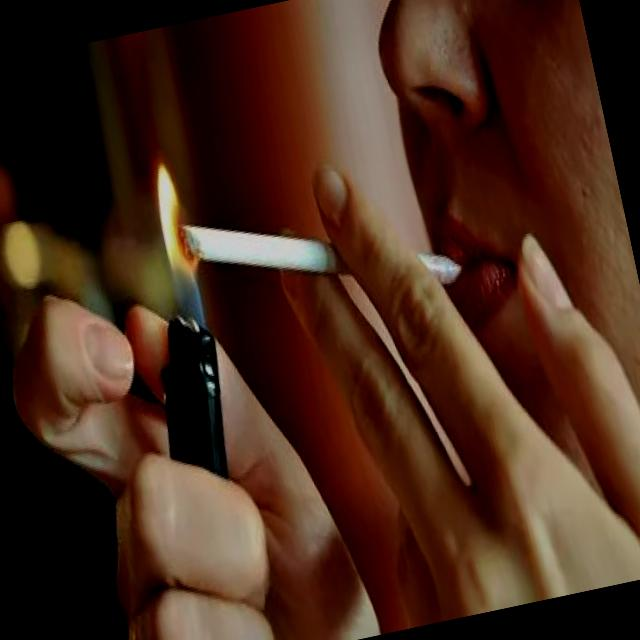cigarette: (162, 161, 468, 360)
